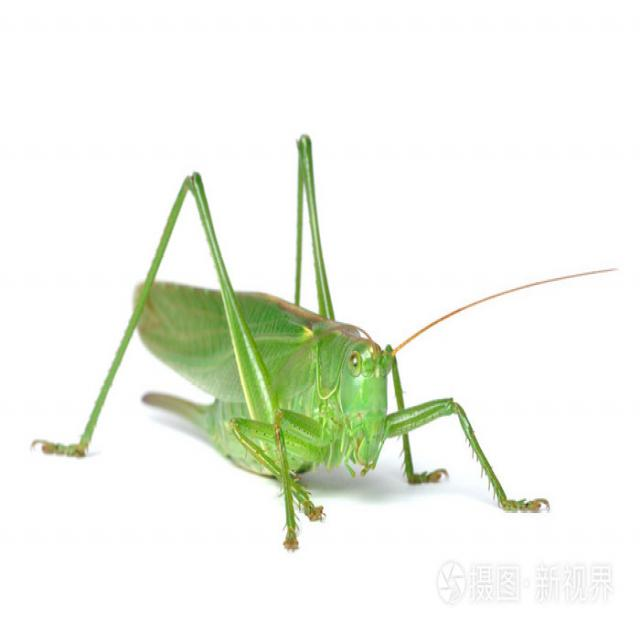ZhaMeng: (98, 122, 518, 559)
